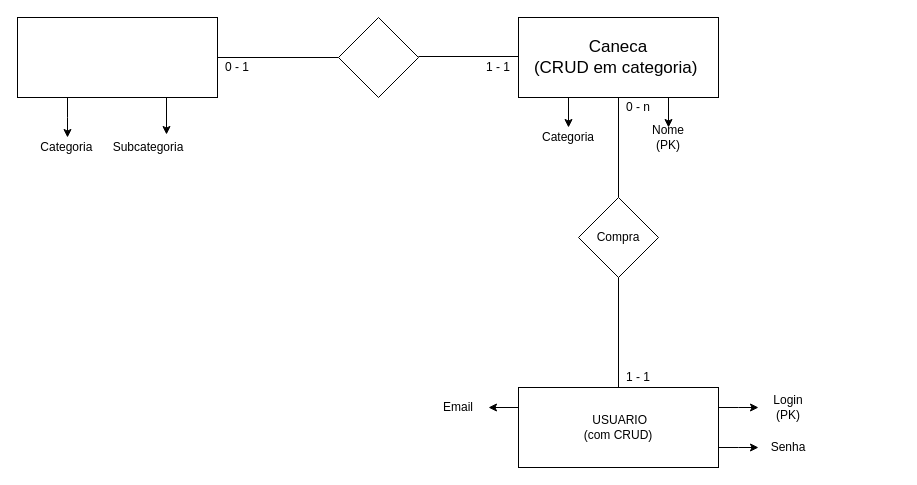
Some shapes in this 917 by 485 pixel diagram are drawn without their labels. The centre of each missing label's shape, as x and y in pixels:
Subcategoria (com CRUD): the point at 117,57
Tem: the point at 378,57
